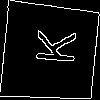K: (25, 27, 77, 66)
